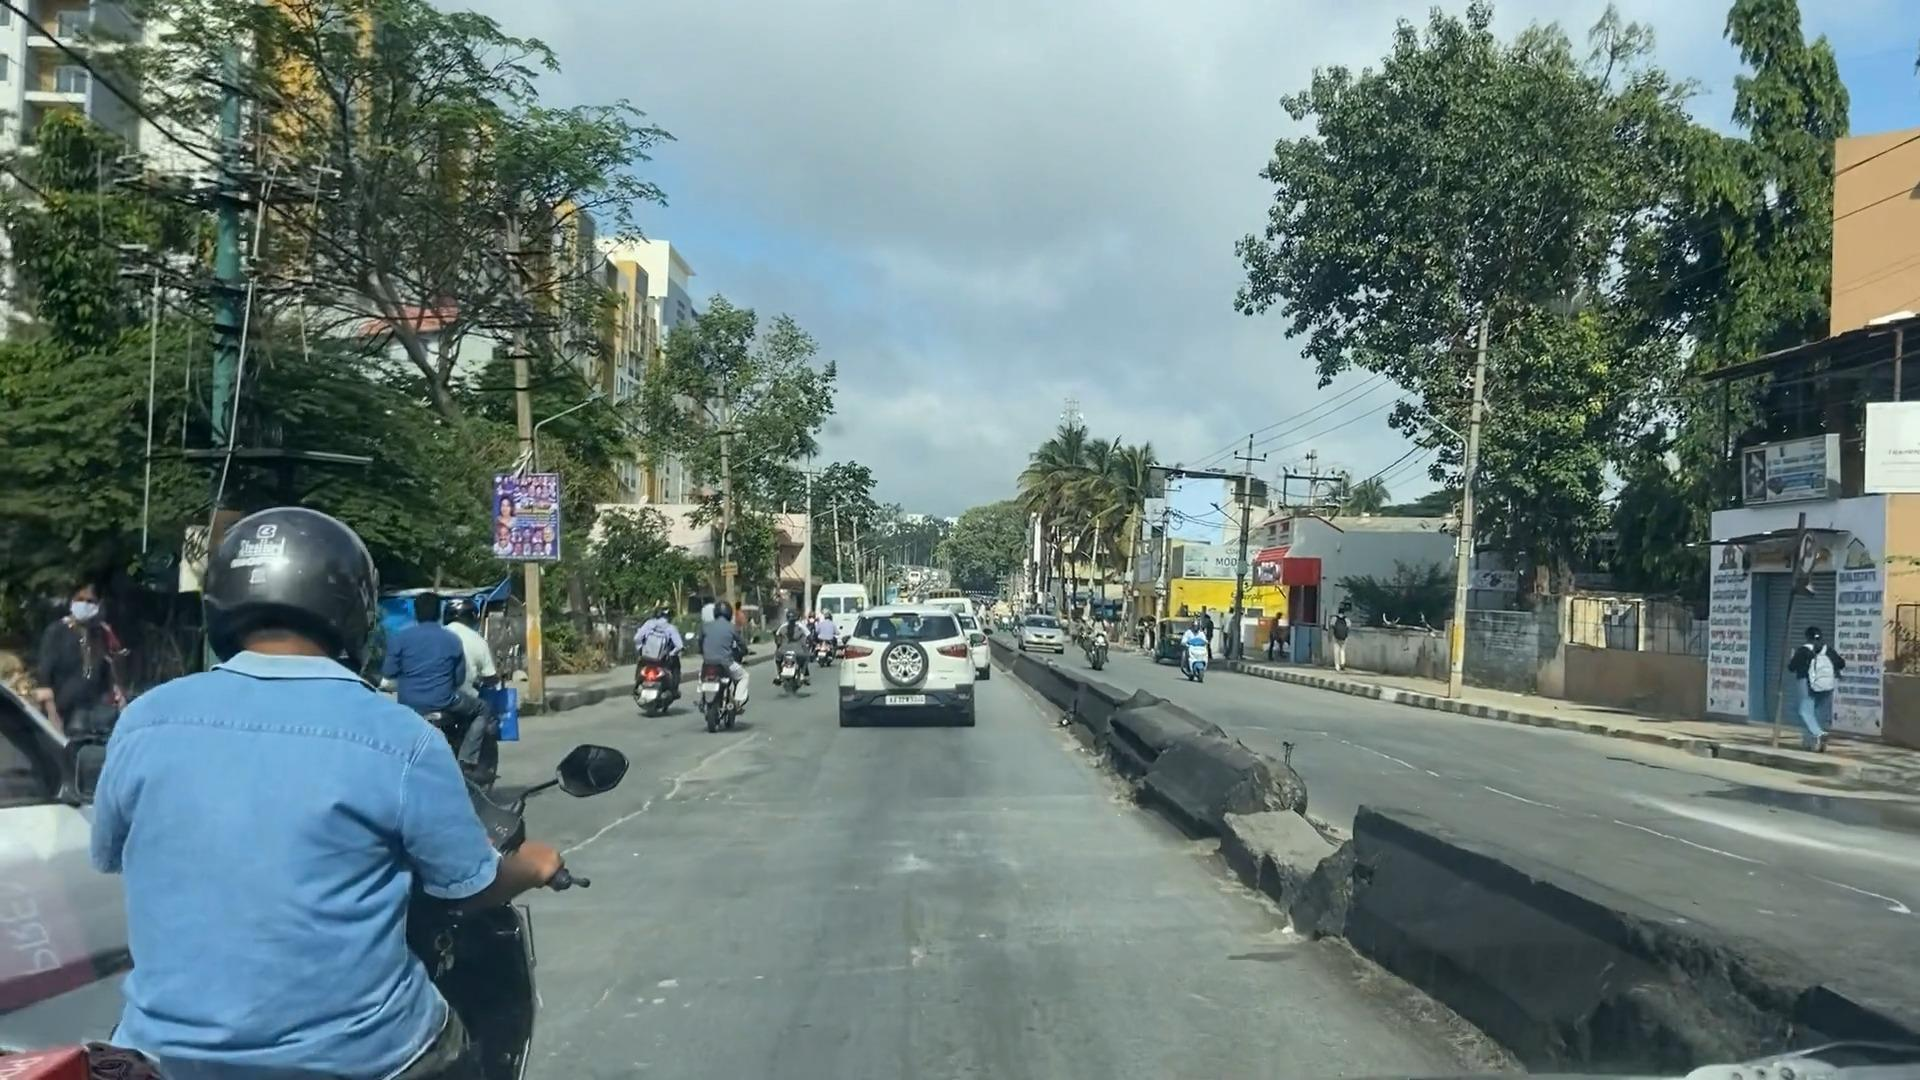LMV: (828, 612, 969, 719), (698, 608, 750, 719), (642, 603, 684, 705)
RoadDamages: (592, 733, 753, 872)
UnsurfacedRoad: (848, 793, 1006, 982), (616, 969, 696, 1034)
